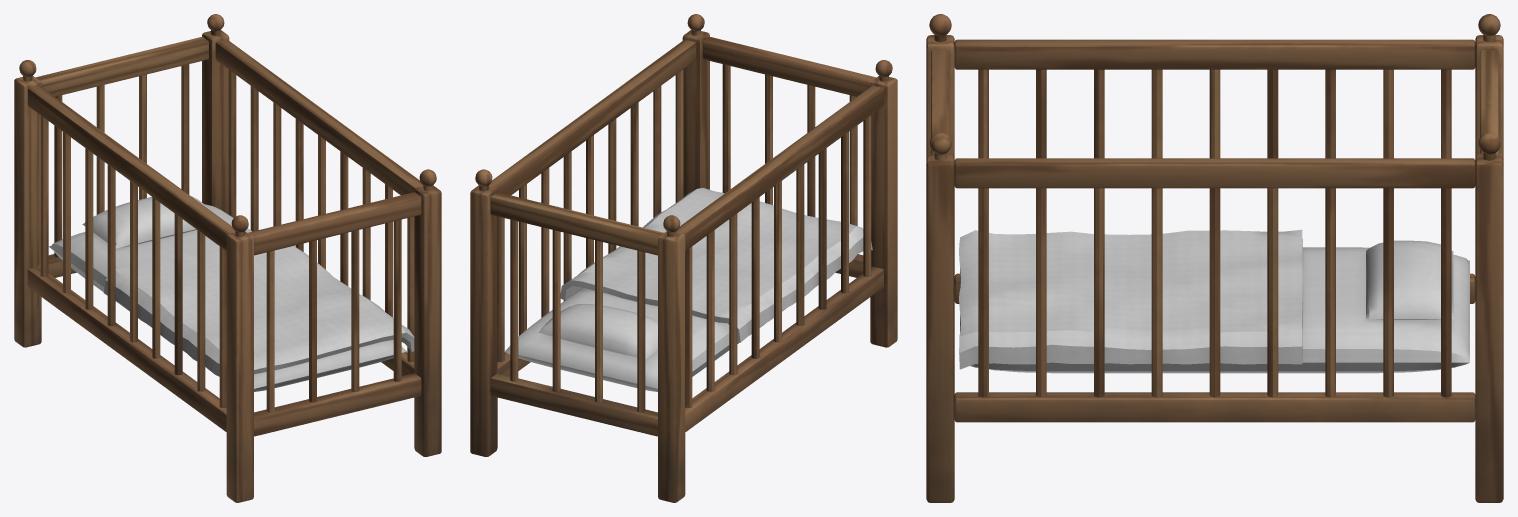
File: bed_cot.glb
The picture shows the model from 3 angles, left to right: view 1: azimuth 30°, elevation 25°; view 2: azimuth 150°, elevation 25°; view 3: azimuth 270°, elevation 25°; orthographic projection. The views are drawn at different scales.
Visible parts, largest first — view 1: bed_cot; view 2: bed_cot; view 3: bed_cot.
Part boxes in pixels (box(x1,y1,x2,y2)): bed_cot: box(14, 14, 441, 502); bed_cot: box(470, 14, 897, 502); bed_cot: box(926, 14, 1503, 502).
Size of the model in its own units: 0.46 by 0.6003 by 0.86.
2 materials, 2 textured.
